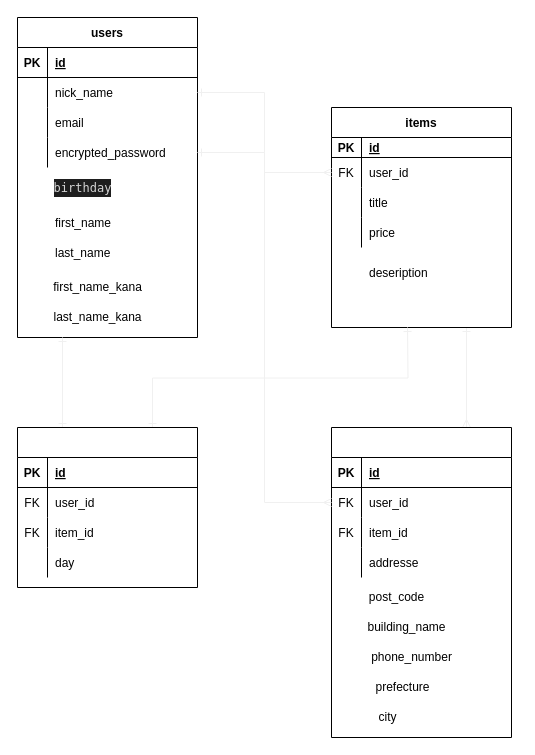
The diagram is 535 pixels wide and 755 high, and some of its shapes have lost their labels. The box of each missing label's shape, as (x1, y1, x2, y2) in pixels:
buyers: (330, 426, 512, 738)
order_historys: (16, 426, 198, 588)
